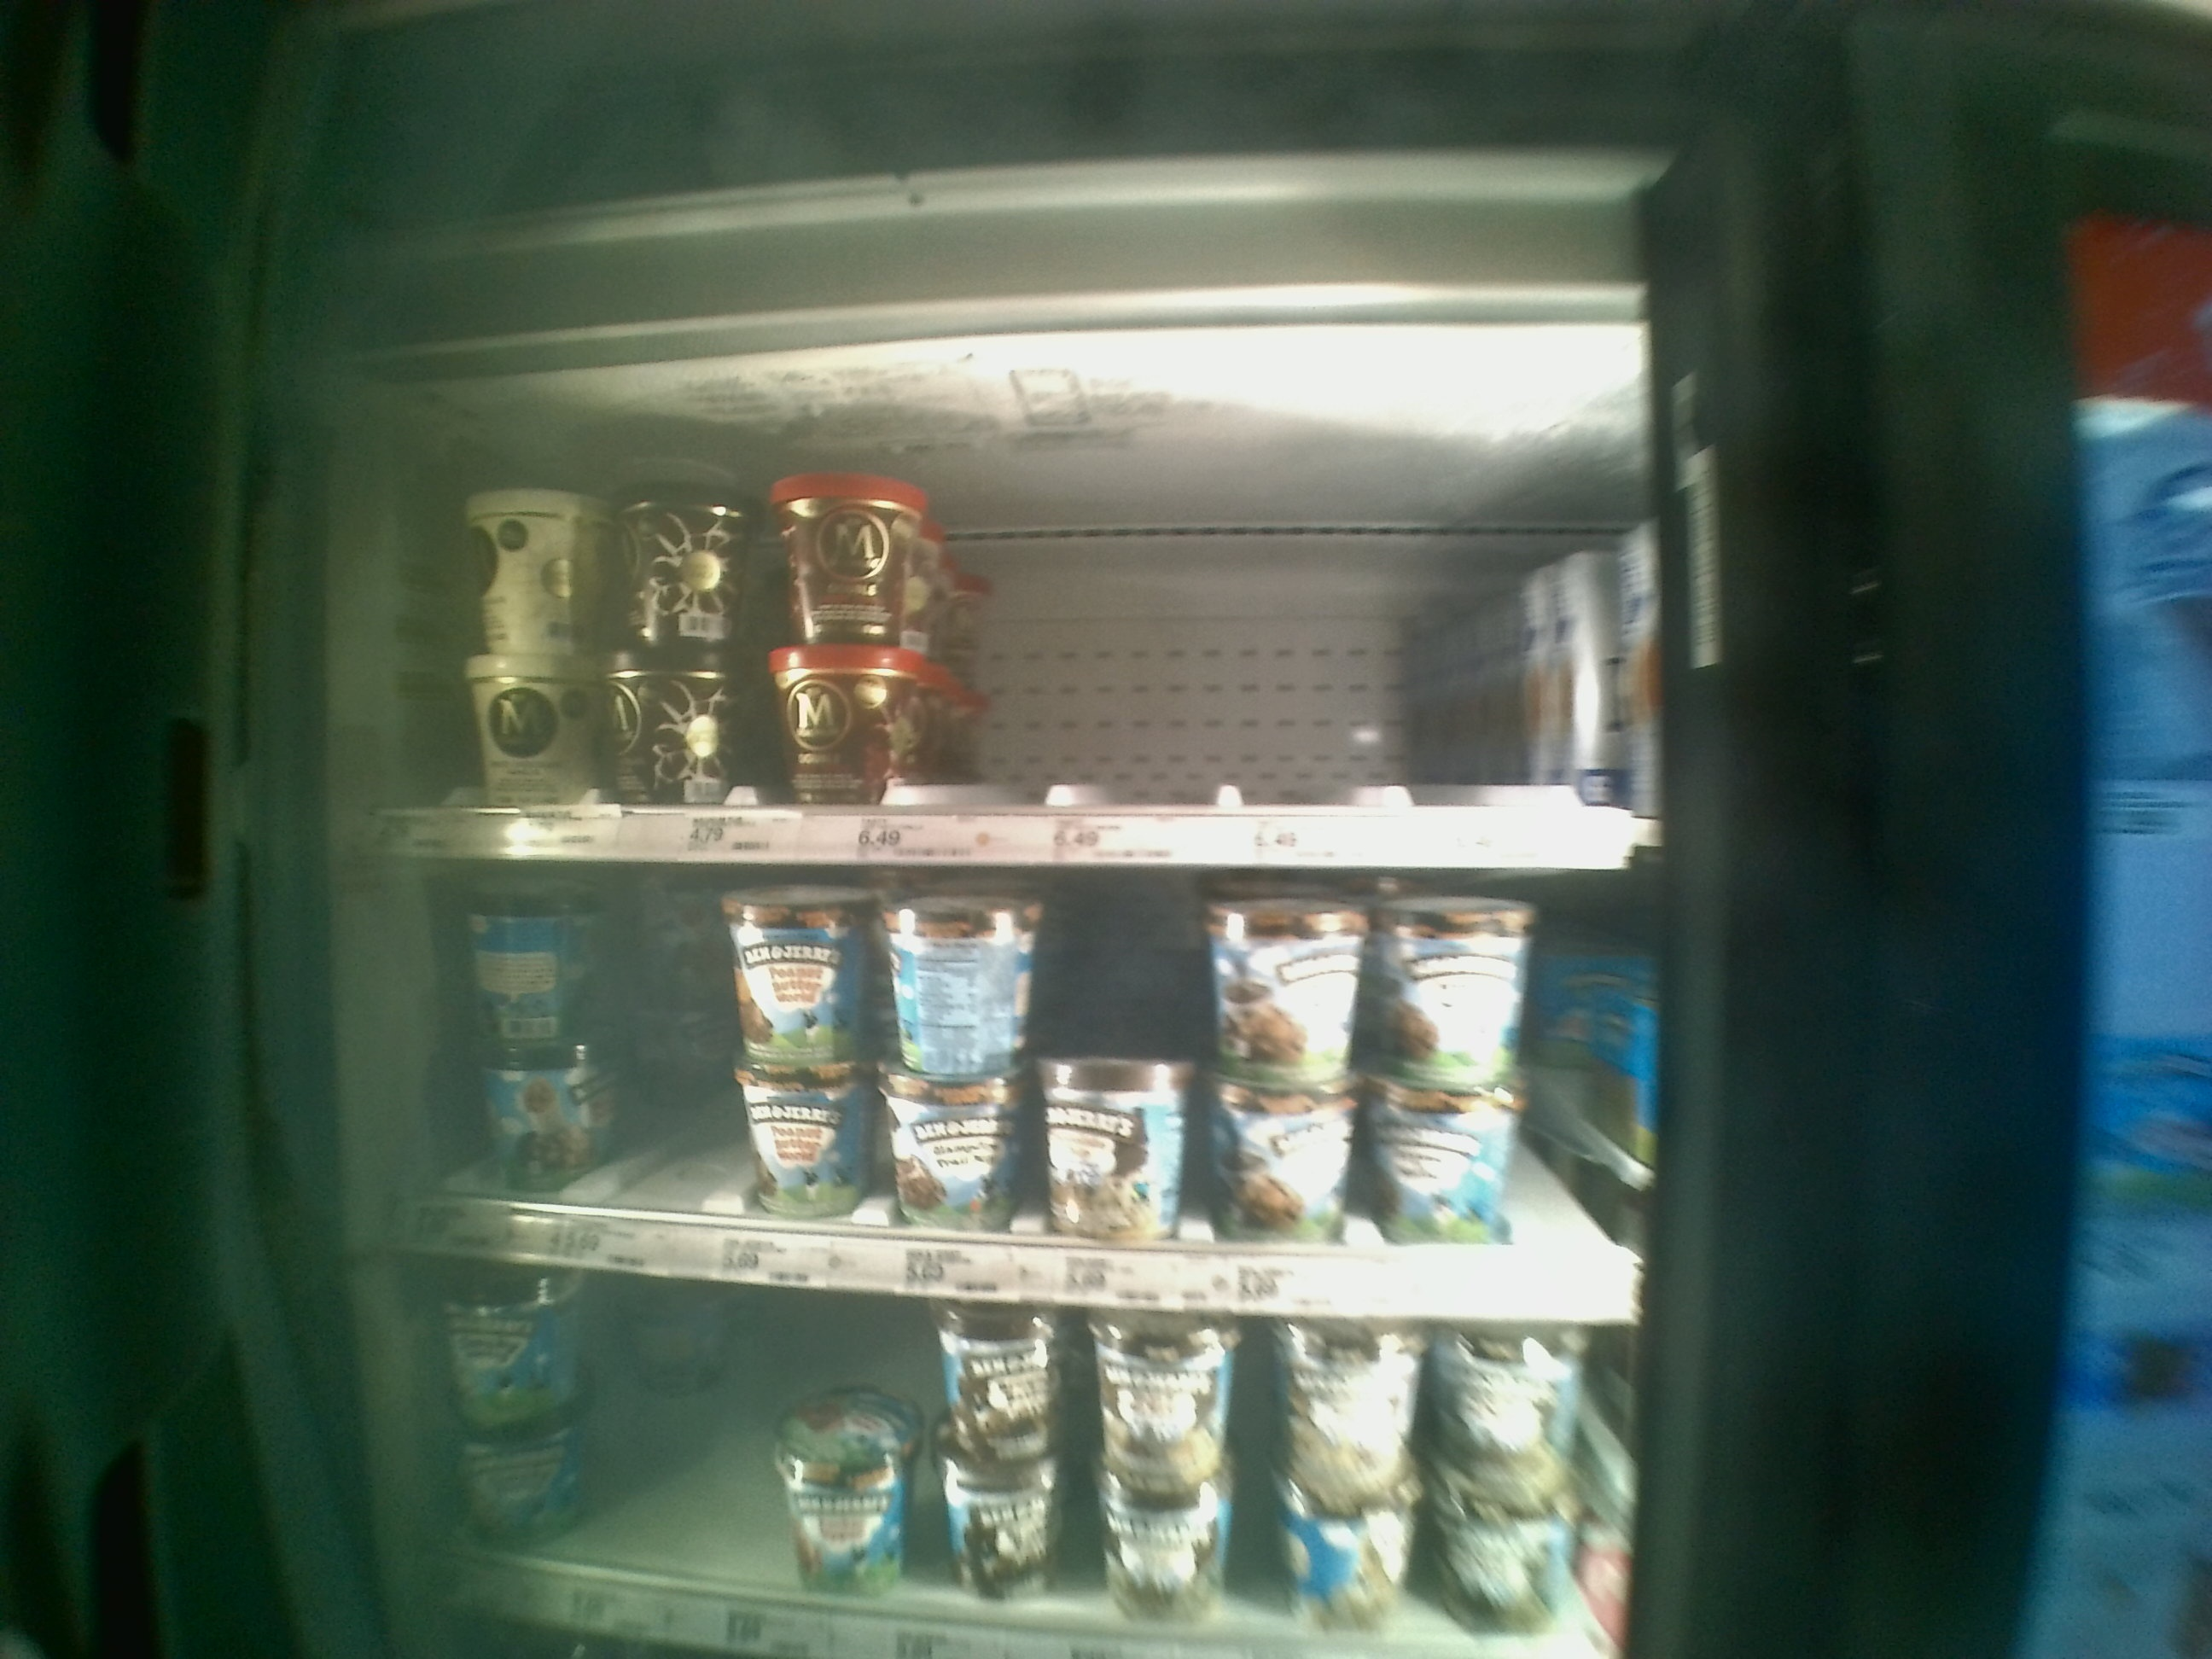ice-cream-shelf: (392, 380, 1651, 863), (387, 857, 1639, 1314)
